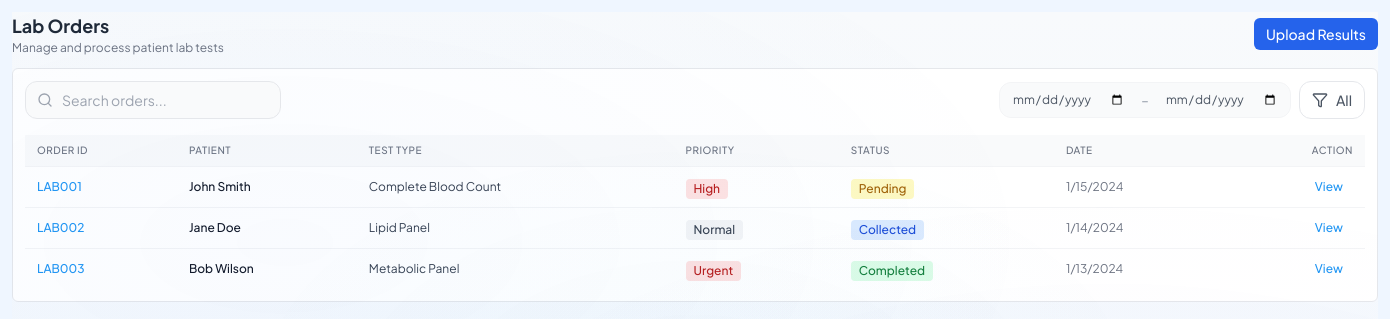
Scenario: Lab Orders Page › filters orders by order ID
Expected: the text "John Smith" is shown, [189, 179, 251, 194]
Type "LAB002" into the field with placeholder "Search orders...". click: {"x": 153, "y": 100}
box: [25, 81, 281, 119]
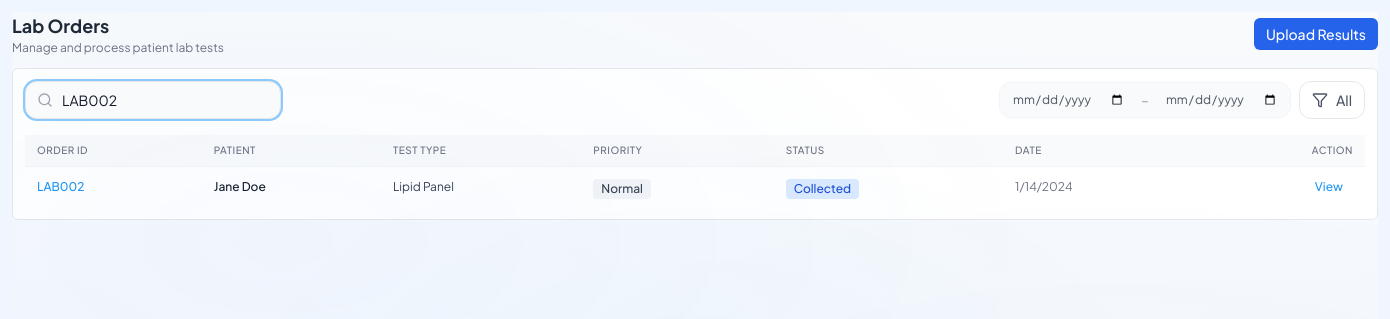
Expected: the text "Jane Doe" is shown, [214, 179, 266, 194]
Now the text "John Smith" is gone
